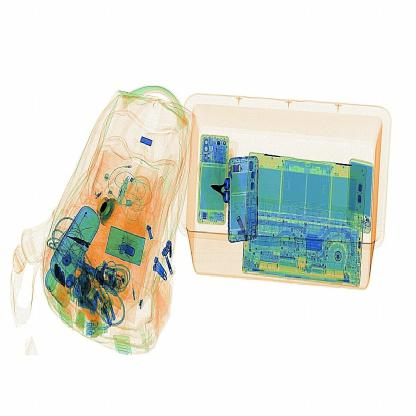gun: (205, 169, 240, 210)
